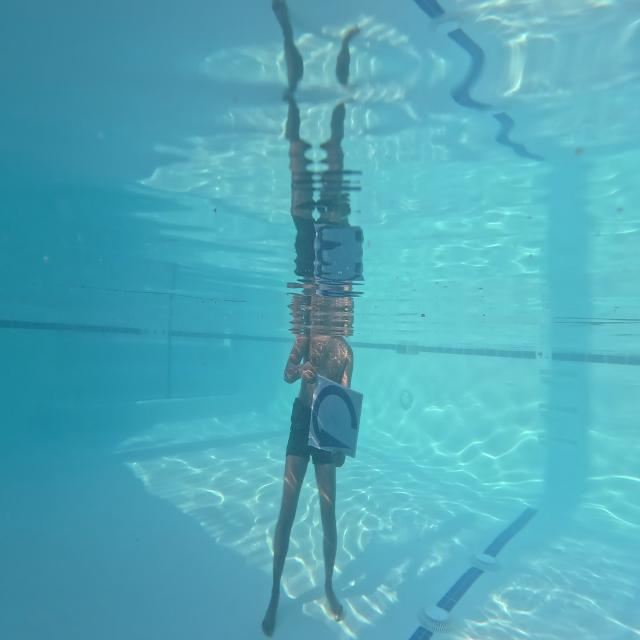blue_side: (308, 363, 362, 471)
